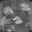people: (0, 16, 11, 31), (3, 6, 15, 16), (13, 16, 22, 25)
